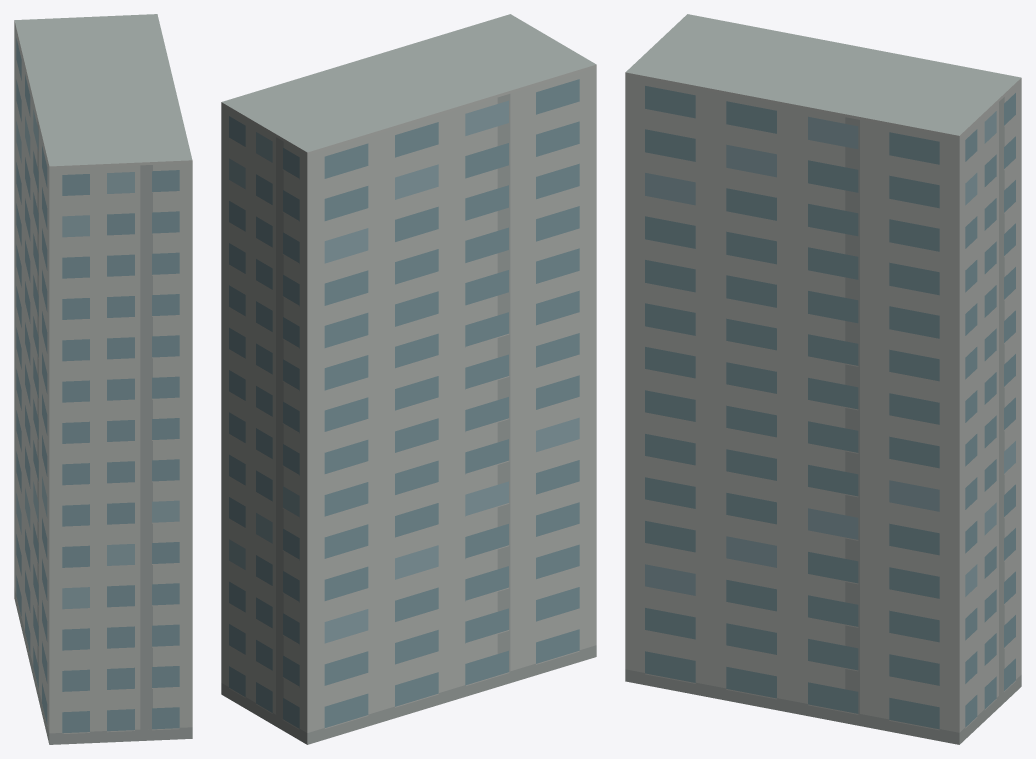
The model's file is residential-462d8e6b-aa2b-4401-81e7-f373404ae9cd.glb.
The picture shows the model from 3 angles, left to right: view 1: azimuth 30°, elevation 25°; view 2: azimuth 150°, elevation 25°; view 3: azimuth 270°, elevation 25°; orthographic projection. The views are drawn at different scales.
Parts seen in each view (by area): view 1: residential-462d8e6b-aa2b-4401-81e7-f373404ae9cd.tmp; view 2: residential-462d8e6b-aa2b-4401-81e7-f373404ae9cd.tmp; view 3: residential-462d8e6b-aa2b-4401-81e7-f373404ae9cd.tmp.
Boxes of the visible parts, <box> form: residential-462d8e6b-aa2b-4401-81e7-f373404ae9cd.tmp: <box>14,14,192,744</box>; residential-462d8e6b-aa2b-4401-81e7-f373404ae9cd.tmp: <box>221,14,596,744</box>; residential-462d8e6b-aa2b-4401-81e7-f373404ae9cd.tmp: <box>625,14,1021,744</box>.
Size of the model in its own units: 21.47 by 50 by 29.49.
